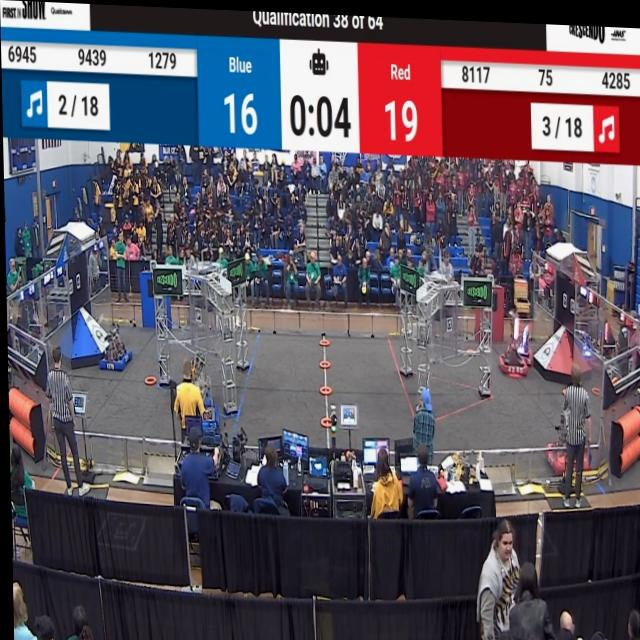Robot: (540, 371, 590, 471), (496, 307, 530, 373), (500, 294, 534, 357), (93, 320, 133, 373), (199, 384, 227, 433), (200, 356, 219, 415)
